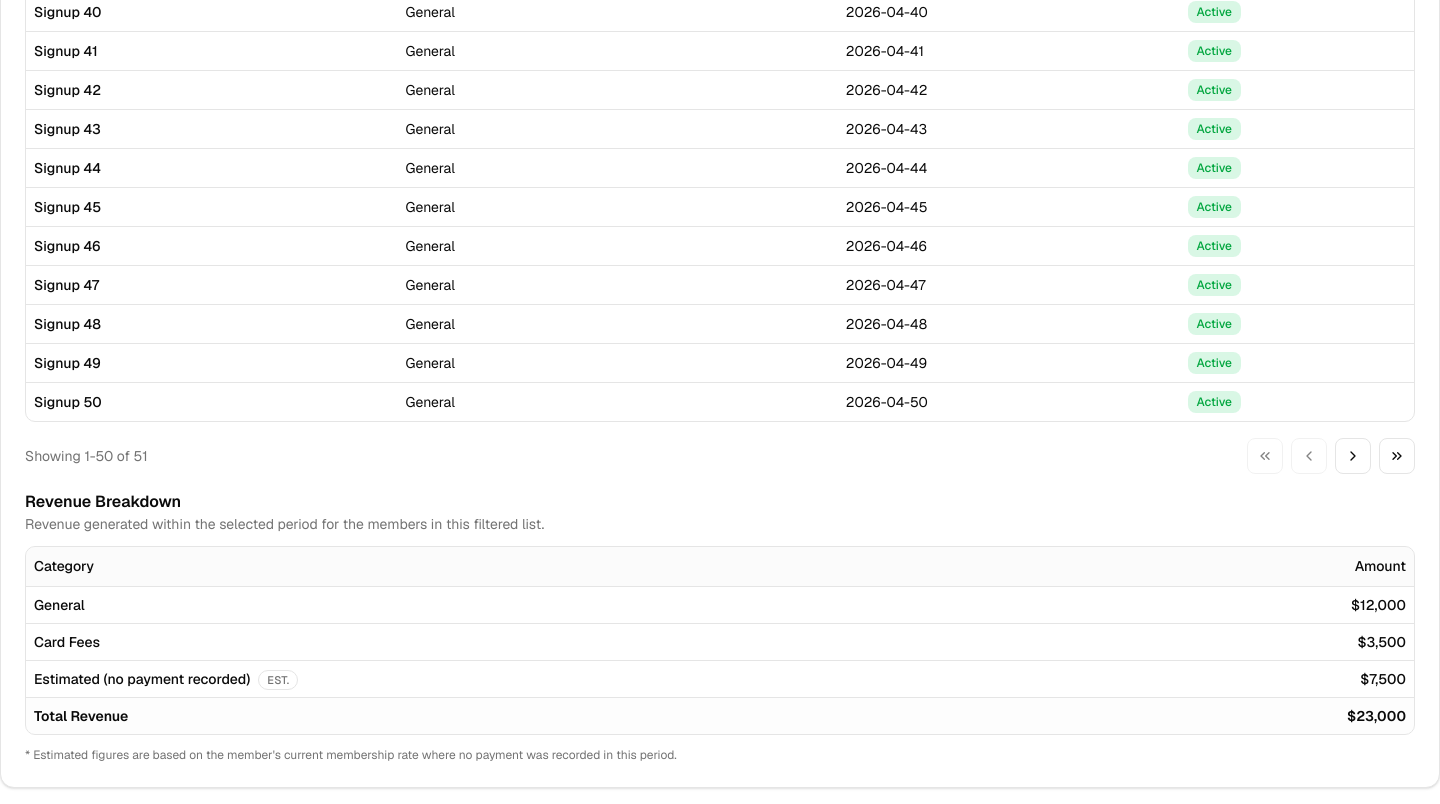
Test: MemberReportsClient › paginates 50 rows per page and syncs the page number into the URL
The width and height of the screenshot is (1440, 804).
(page scrolled)
Click the button named "Go to next page": {"x": 1353, "y": 456} [1335, 438, 1371, 474]
(page scrolled)
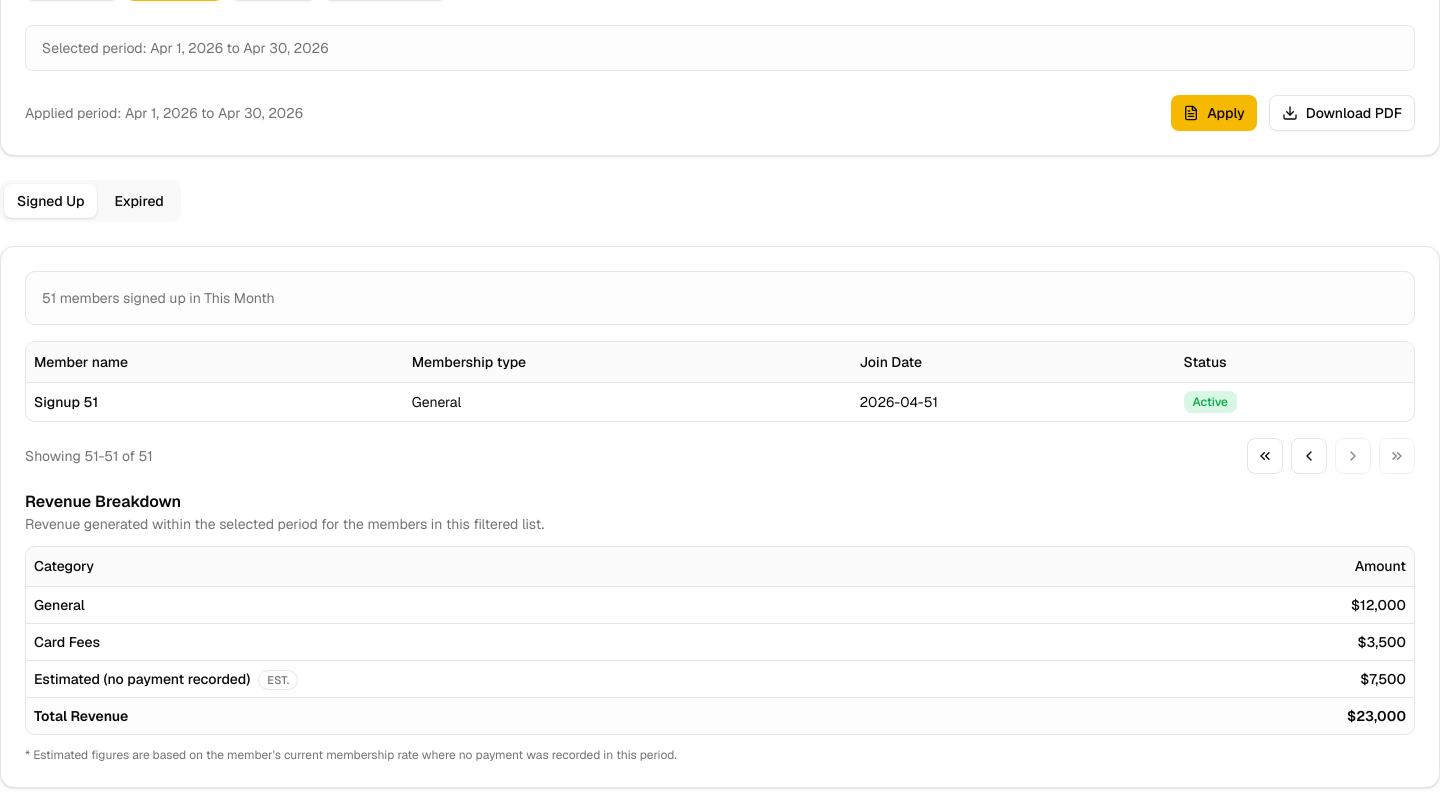
Expected: the text "Revenue Breakdown" is shown, [25, 490, 181, 512]
Expected: the text "Showing 51-51 of 51" is shown, [25, 446, 153, 466]
